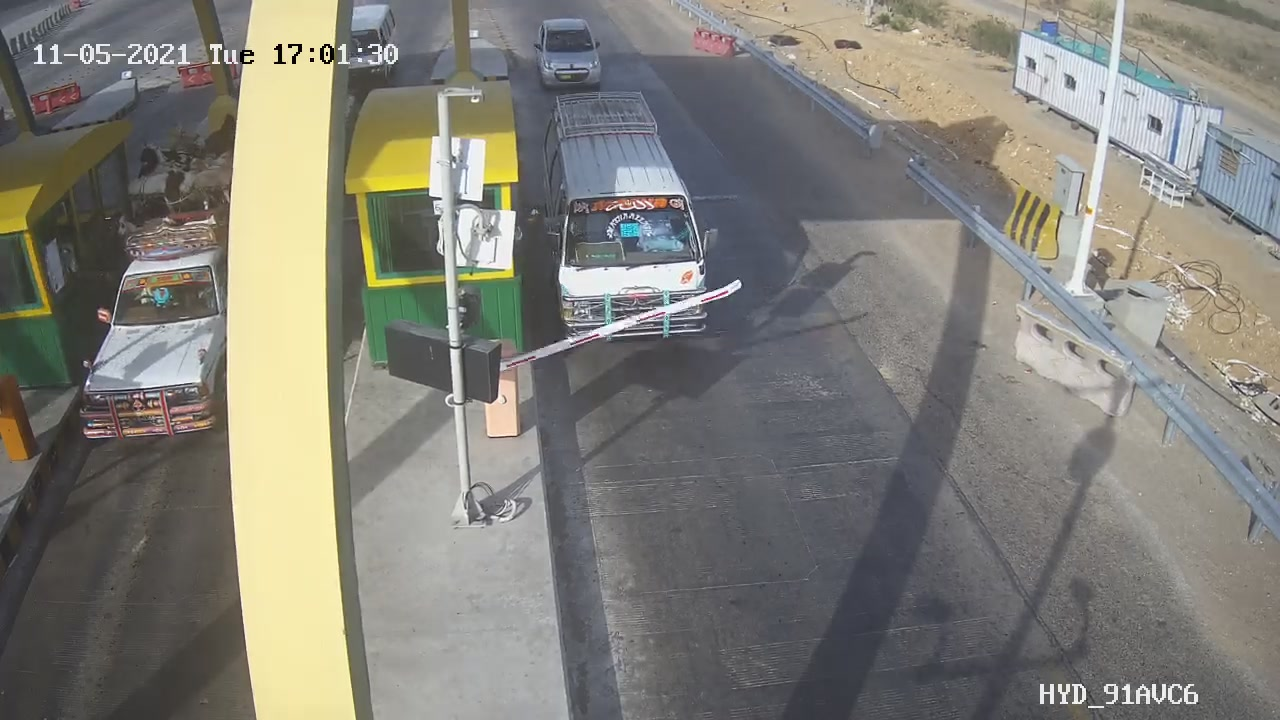F2: (526, 79, 742, 364)
